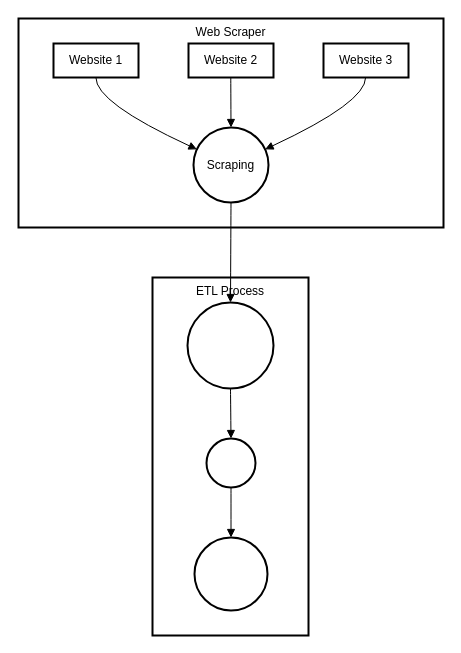
Some shapes in this 461 by 653 pixel diagram are drawn without their labels. The shapes that lost their labels are listed below. From the top down, each one's centre as x and y in pixels, then its label:
At (230,345): "Transform".
At (230,462): "Load".
At (230,573): "MariaDB".
